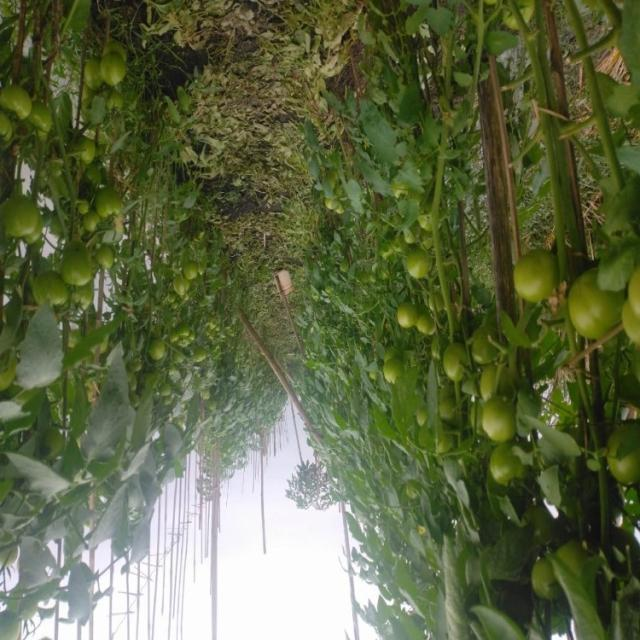tomato: (556, 266, 628, 352), (510, 241, 570, 321), (47, 238, 111, 309), (394, 242, 439, 293), (25, 268, 66, 310), (497, 1, 538, 39), (486, 397, 518, 445), (440, 333, 472, 380), (619, 271, 640, 339), (605, 444, 640, 482), (160, 268, 195, 306), (103, 53, 135, 94), (8, 82, 34, 130), (529, 558, 555, 604), (488, 444, 521, 479), (390, 299, 417, 340), (91, 200, 125, 228), (418, 210, 446, 242), (146, 345, 172, 373), (1, 199, 25, 228), (87, 62, 108, 95), (1, 102, 15, 150), (189, 268, 210, 295), (78, 210, 99, 232), (173, 338, 193, 361), (74, 203, 90, 224)
